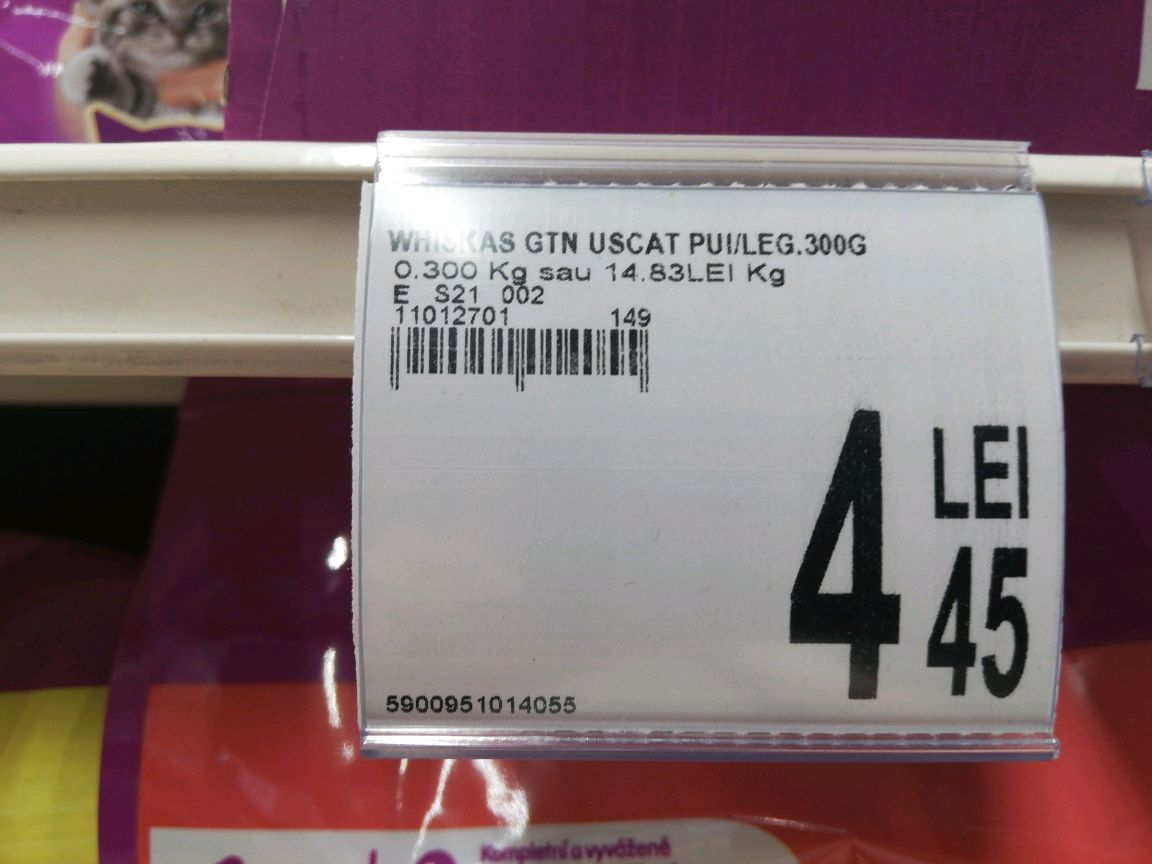price_bani: (916, 535, 1044, 711)
price_lei: (779, 396, 910, 713)
price_tag: (339, 170, 1081, 770)
product_id: (376, 688, 589, 729)
product_name: (377, 220, 900, 260)
